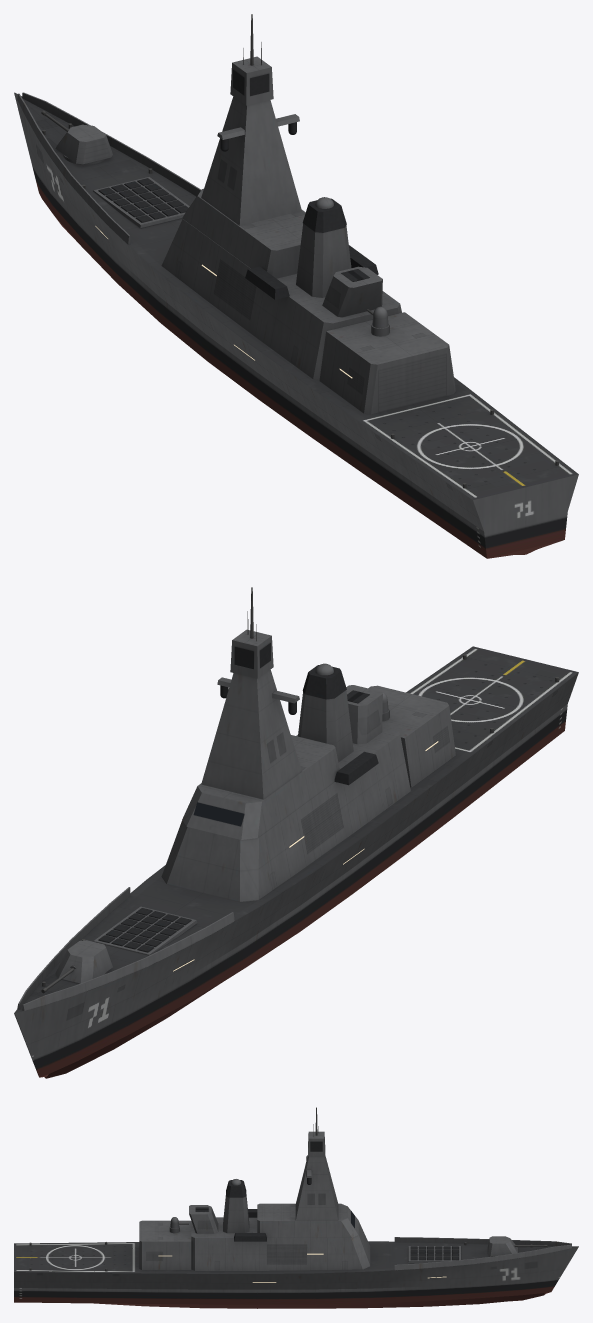
Rendered from stealth-frigate.glb.
3 views of the same model, one above another, from view 1: azimuth 30°, elevation 25°; view 2: azimuth 150°, elevation 25°; view 3: azimuth 270°, elevation 25° (orthographic). The views are drawn at different scales.
Visible parts, largest first — view 1: ShipMesh, TurretMesh; view 2: ShipMesh, TurretMesh; view 3: ShipMesh, TurretMesh.
Boxes of the visible parts, left/top/right/bottom form: ShipMesh: left=14, top=14, right=578, bottom=558; TurretMesh: left=55, top=124, right=112, bottom=164; ShipMesh: left=14, top=587, right=578, bottom=1078; TurretMesh: left=55, top=940, right=112, bottom=983; ShipMesh: left=14, top=1107, right=578, bottom=1308; TurretMesh: left=487, top=1236, right=517, bottom=1255.
Bounding box in the file's own units: 16.4 × 45.95 × 120.
Materials: 4 (1 with a texture image).
